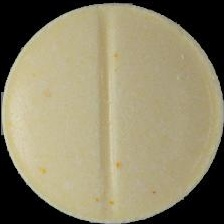62584-897: (0, 0, 224, 224)
